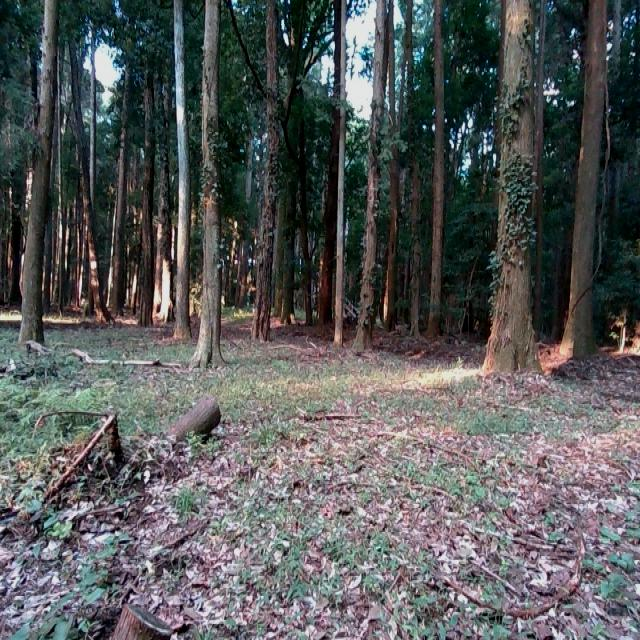tree: (476, 0, 543, 384), (560, 0, 611, 357), (13, 0, 59, 355), (348, 0, 389, 351), (188, 0, 226, 371), (68, 0, 110, 325), (247, 0, 282, 354), (162, 0, 194, 349), (422, 0, 448, 344), (129, 17, 157, 328), (315, 0, 339, 336), (329, 0, 351, 348), (295, 0, 315, 325), (406, 0, 420, 346), (163, 388, 221, 442)
